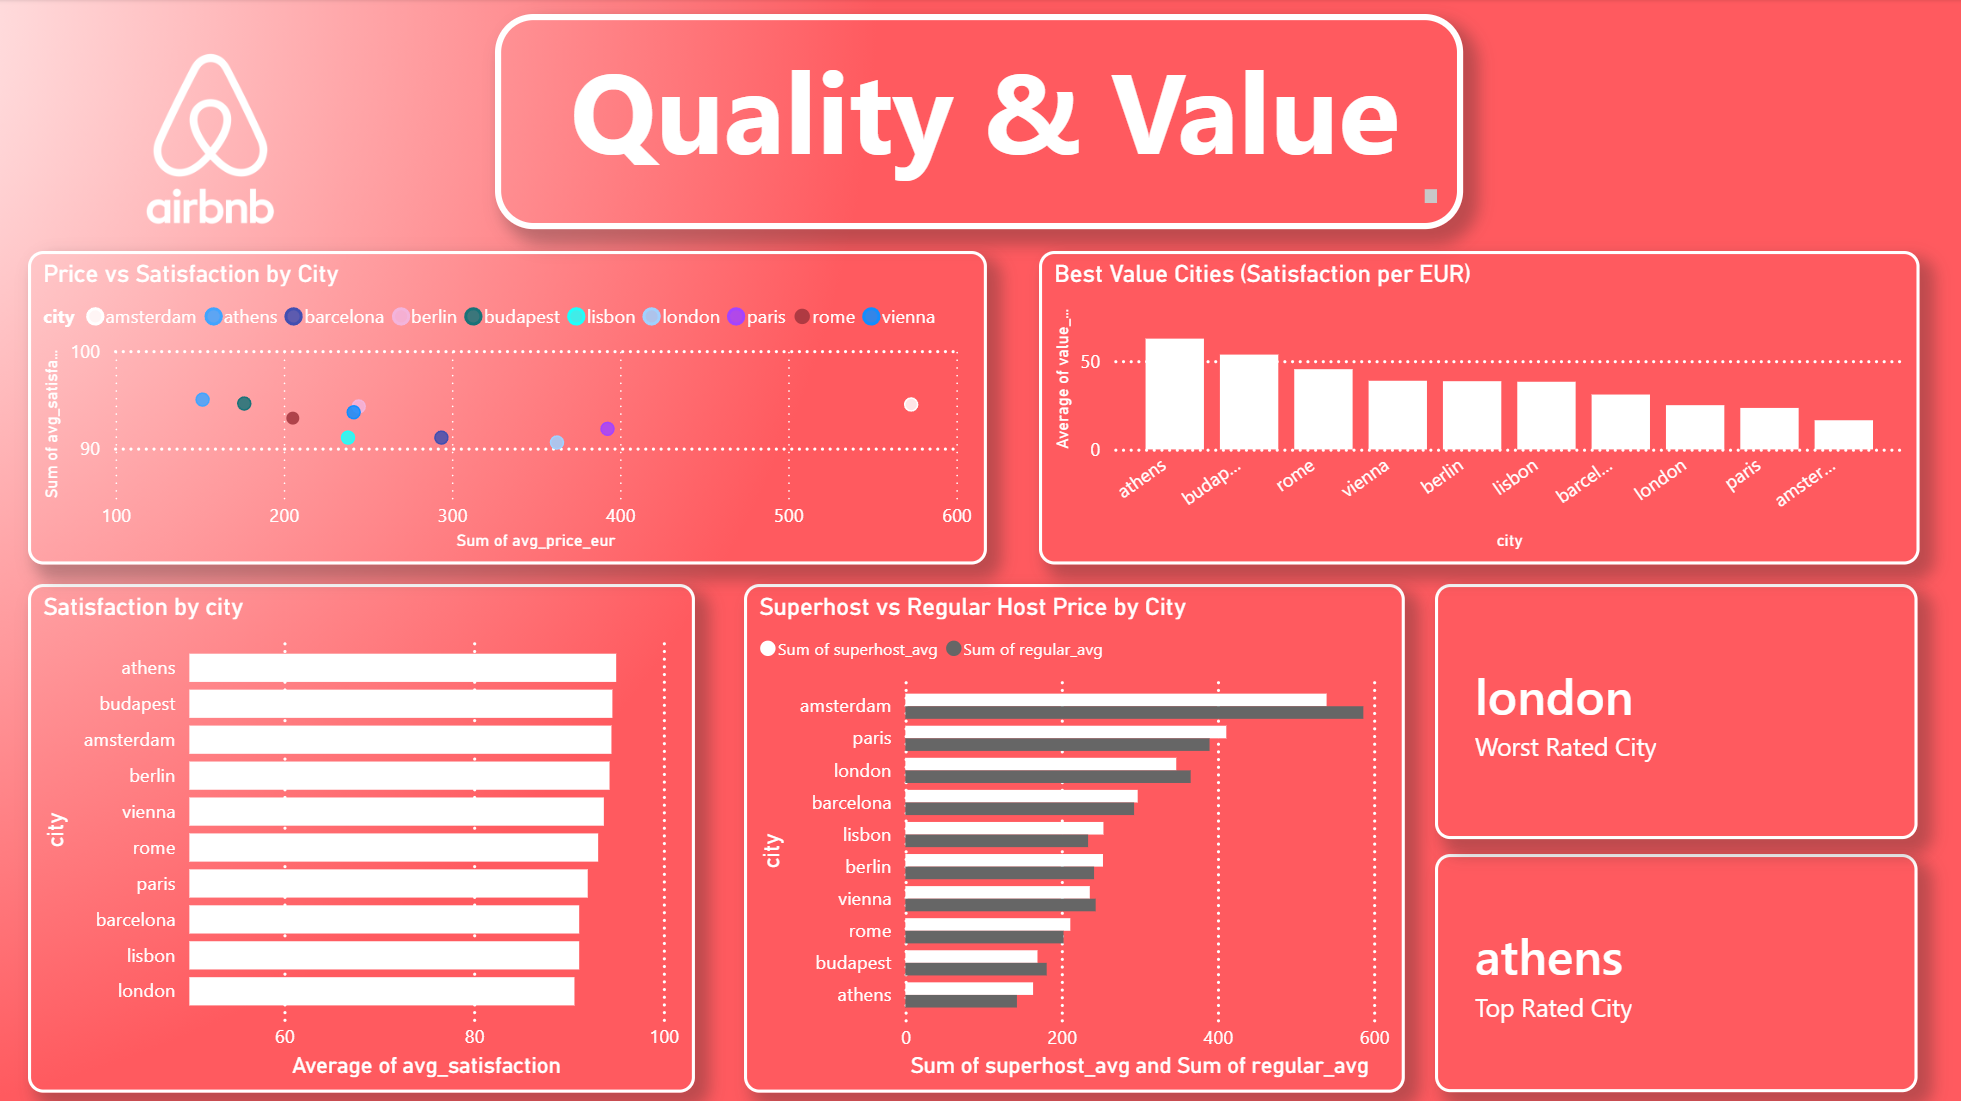

What the dashboard file says about the page in this screenshot:
{"tool":"powerbi","page":{"name":"Page 3","canvas":[1280,720],"ordinal":2},"visuals":[{"type":"image","box":[0,0,955.1,720],"z":0},{"type":"textbox","title":"Quality & Value","box":[325.2,10,629.7,139.8],"z":1000},{"type":"clusteredBarChart","title":"Satisfaction by city","fields":{"Category":["satisfaction_by_city.city"],"Y":["Avg(satisfaction_by_city.avg_satisfaction)"]},"box":[21.6,380.4,433.6,330.9],"z":2000},{"type":"clusteredBarChart","title":"Superhost vs Regular Host Price by City","fields":{"Category":["superhost_premium.city"],"Y":["Sum(superhost_premium.superhost_avg)","Sum(superhost_premium.regular_avg)"]},"box":[487.4,380.4,429.9,330.9],"z":3000},{"type":"cardVisual","fields":{"Data":["satisfaction_by_city.Top Rated City"]},"box":[937.1,556.7,313.6,154.6],"z":4000},{"type":"cardVisual","fields":{"Data":["satisfaction_by_city.Worst Rated City"]},"box":[937.1,380.4,313.6,165.8],"z":5000},{"type":"image","box":[30,28,219.7,125.8],"z":6000},{"type":"scatterChart","title":"Price vs Satisfaction by City","fields":{"X":["Sum(7  Best value cities.avg_price_eur)"],"Y":["Sum(7  Best value cities.avg_satisfaction)"],"Series":["7  Best value cities.city"]},"box":[21.6,163.9,624.1,204.1],"z":7000},{"type":"columnChart","title":"Best Value Cities (Satisfaction per EUR)","fields":{"Category":["7  Best value cities.city"],"Y":["Avg(7  Best value cities.value_score)"]},"box":[679.2,163.9,572.8,204.1],"z":8000}]}

Visuals, with their boxes in screenshot pixels (x1, y1, x2, y2), scaled from the page's 1280x720 canvas onto the 1961x1101 screenshot:
image: region(0, 0, 1463, 1100)
"Quality & Value" textbox: region(498, 15, 1463, 229)
"Satisfaction by city" clusteredBarChart: region(33, 582, 697, 1088)
"Superhost vs Regular Host Price by City" clusteredBarChart: region(747, 582, 1405, 1088)
cardVisual - satisfaction_by_city.Top Rated City: region(1436, 851, 1916, 1088)
cardVisual - satisfaction_by_city.Worst Rated City: region(1436, 582, 1916, 835)
image: region(46, 43, 383, 235)
"Price vs Satisfaction by City" scatterChart: region(33, 251, 989, 563)
"Best Value Cities (Satisfaction per EUR)" columnChart: region(1041, 251, 1918, 563)
